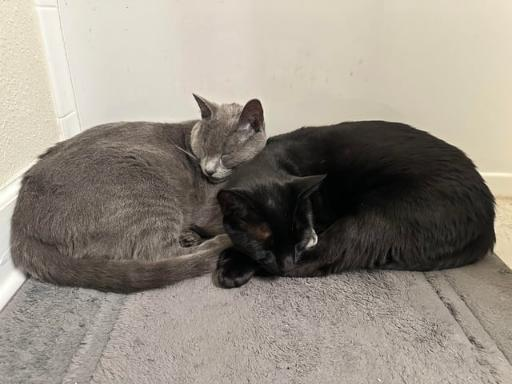cat_sleeping: (11, 94, 496, 292)
